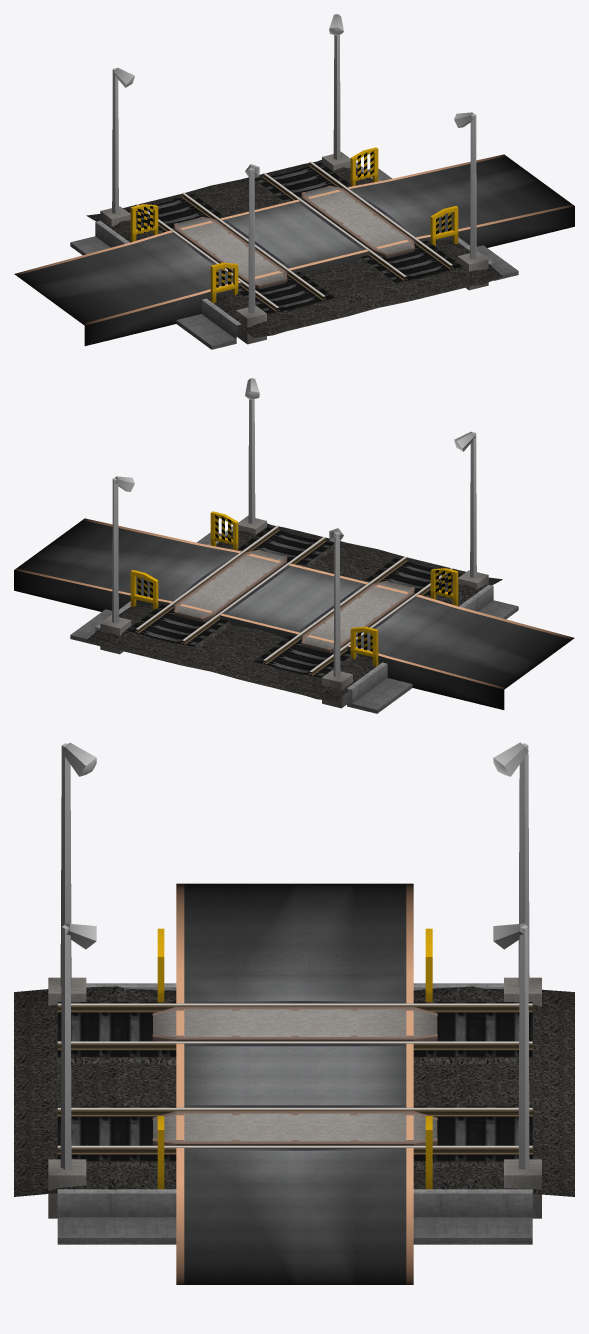
File: KH_RAIL_HUMIKIRI_25_S.glb
The picture shows the model from 3 angles, top to bottom: view 1: azimuth 30°, elevation 25°; view 2: azimuth 150°, elevation 25°; view 3: azimuth 270°, elevation 25°; orthographic projection. The views are drawn at different scales.
Parts seen in each view (by area): view 1: obj1, bone8, bone0; view 2: obj1, bone0, bone8; view 3: obj1, bone0, bone8.
Part boxes in pixels (x1,y1,x2,y2): obj1: [14, 154, 574, 349]; bone8: [210, 112, 488, 344]; bone0: [100, 14, 378, 242]; obj1: [14, 518, 574, 713]; bone0: [100, 476, 378, 708]; bone8: [210, 378, 488, 606]; obj1: [14, 883, 574, 1284]; bone0: [425, 742, 541, 1218]; bone8: [48, 742, 164, 1218].
Bounding box in the file's own units: 50 × 16.65 × 29.53.
Materials: 16 (13 with a texture image).
